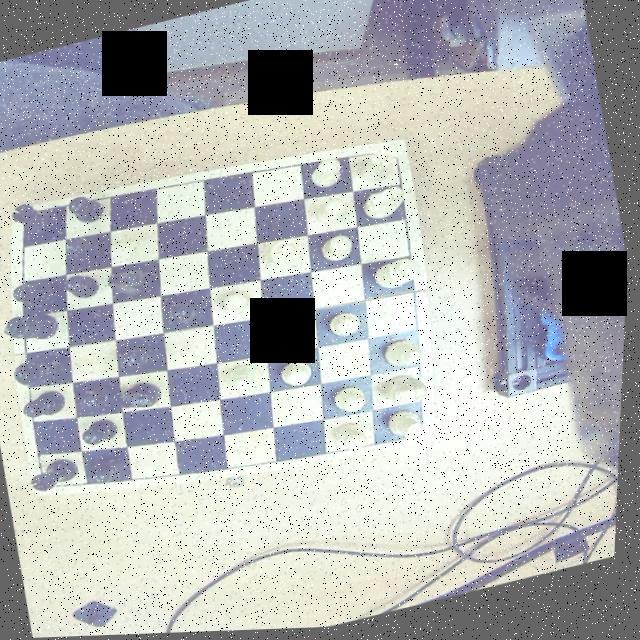chess-table-corners: (408, 418, 438, 448), (382, 141, 412, 169), (12, 201, 46, 225), (34, 469, 62, 494)
